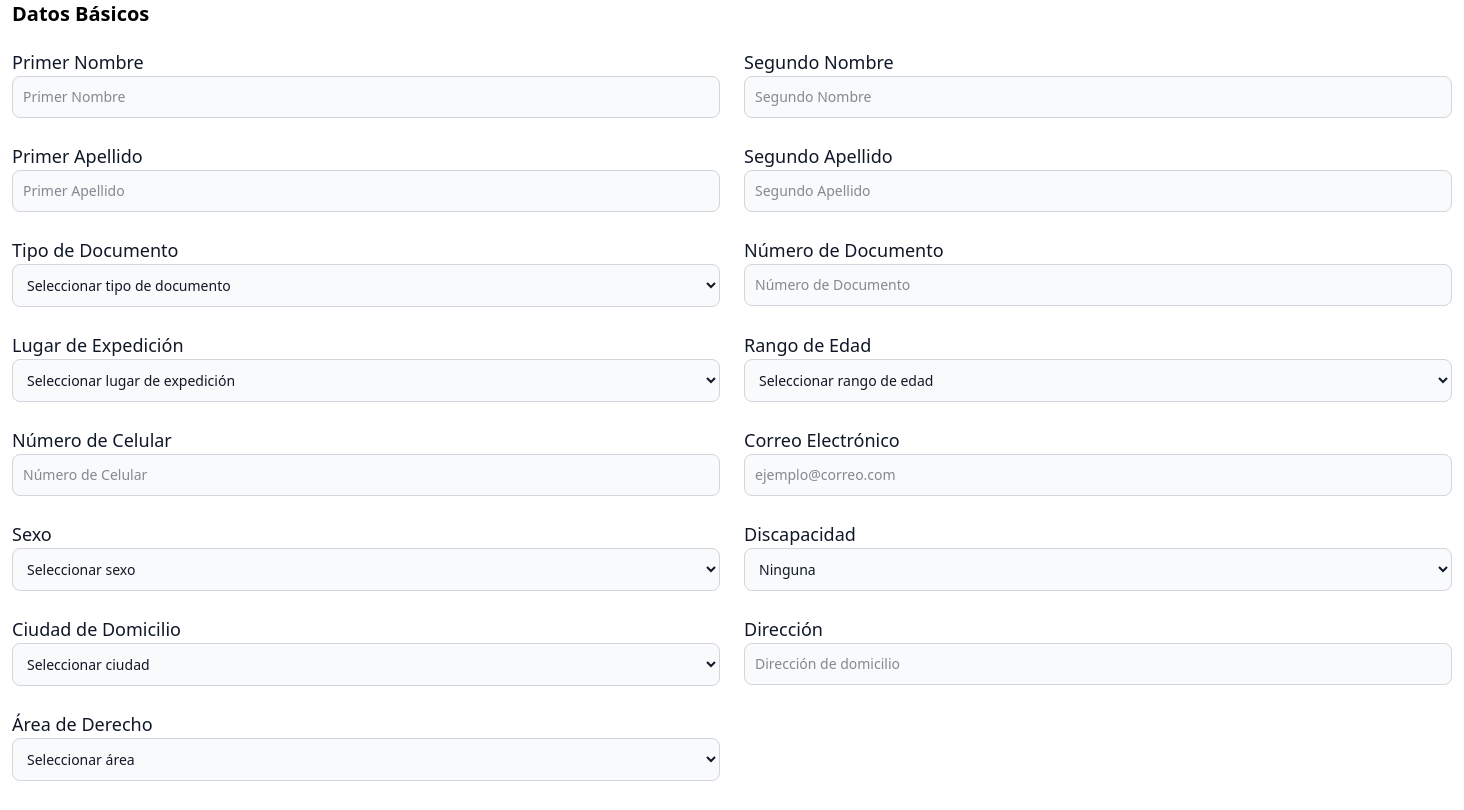
Scenario: DatosBasicos - Partición Equivalente y AVL › PARTICIÓN EQUIVALENTE - Casos de Prueba › PE004: Email inválido (partición inválida)
The width and height of the screenshot is (1464, 810).
Type "email-invalido" into the field with placeholder "ejemplo@correo.com" at (1098, 475), box left=744, top=454, right=1452, bottom=496
(page scrolled)
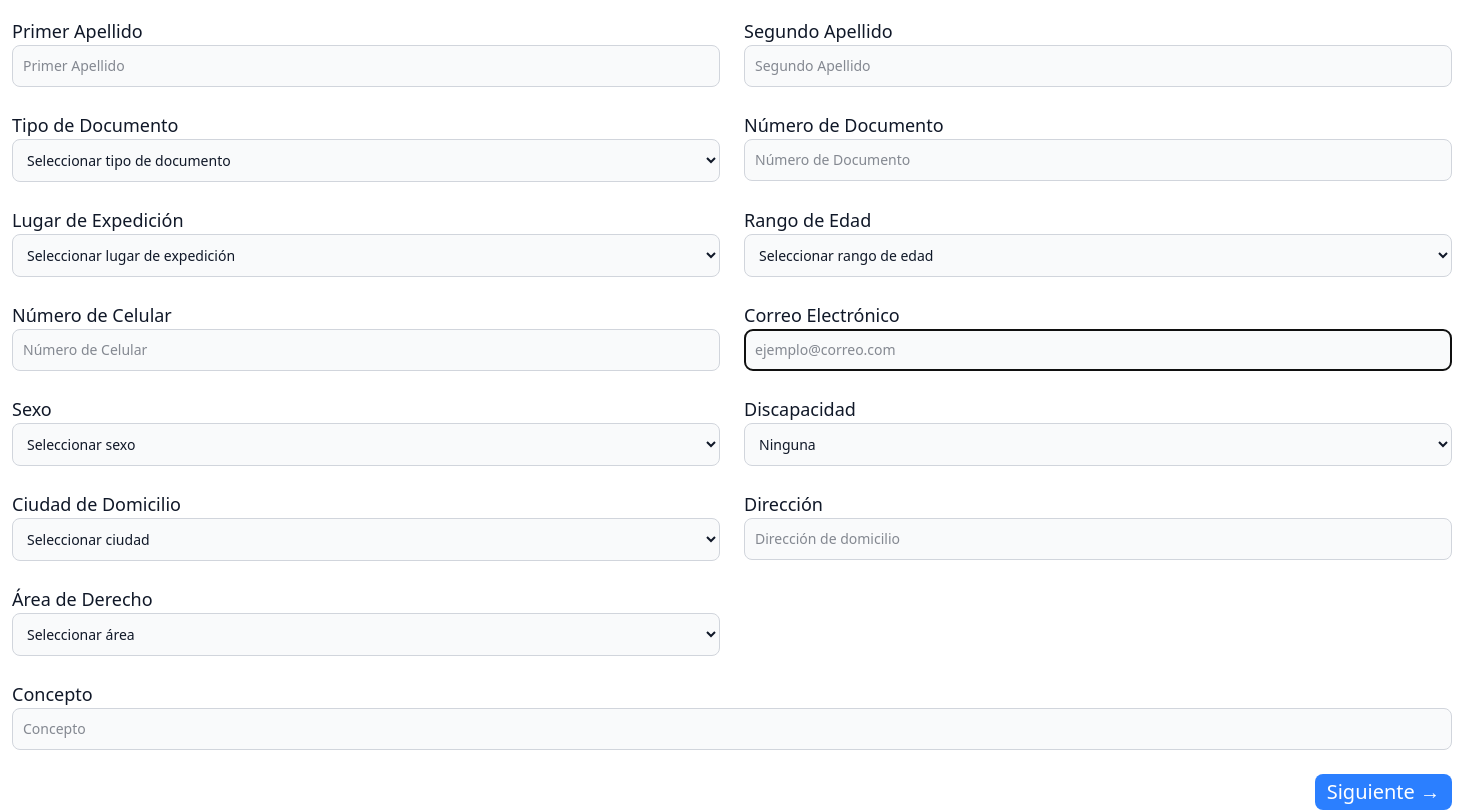
Click the button "Siguiente →" at (1383, 792), box left=1315, top=774, right=1452, bottom=809
(page scrolled)
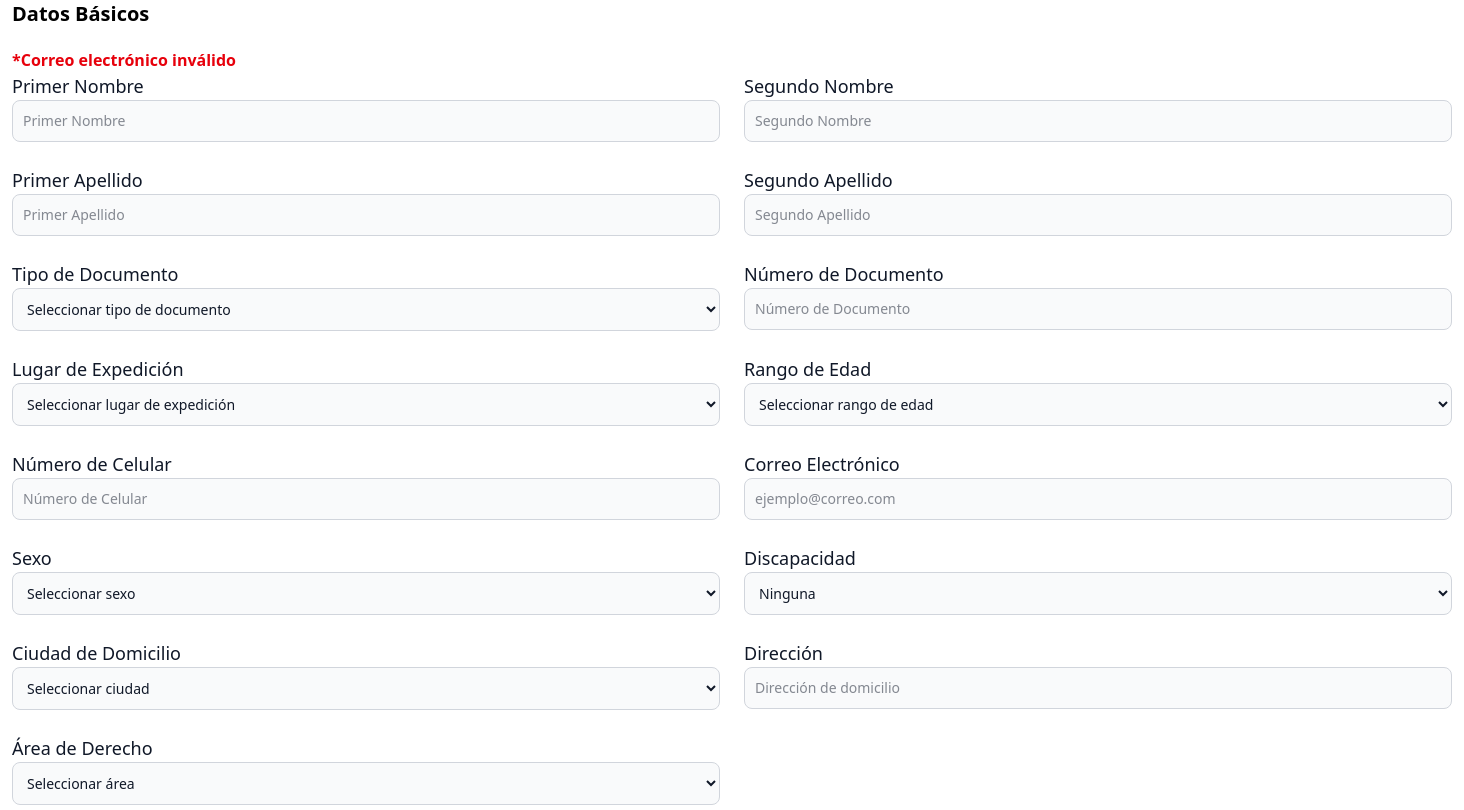
Expected: the text "*Correo electrónico inválido" is shown, left=12, top=49, right=236, bottom=71
